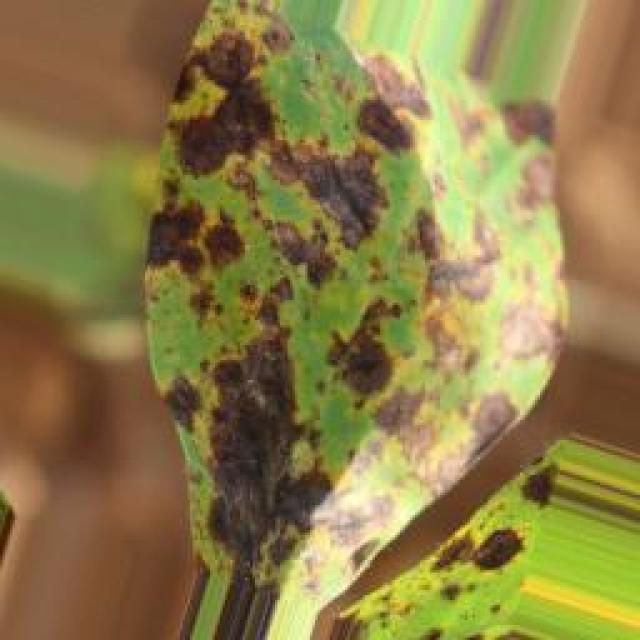Yellowish: (139, 0, 571, 640)
